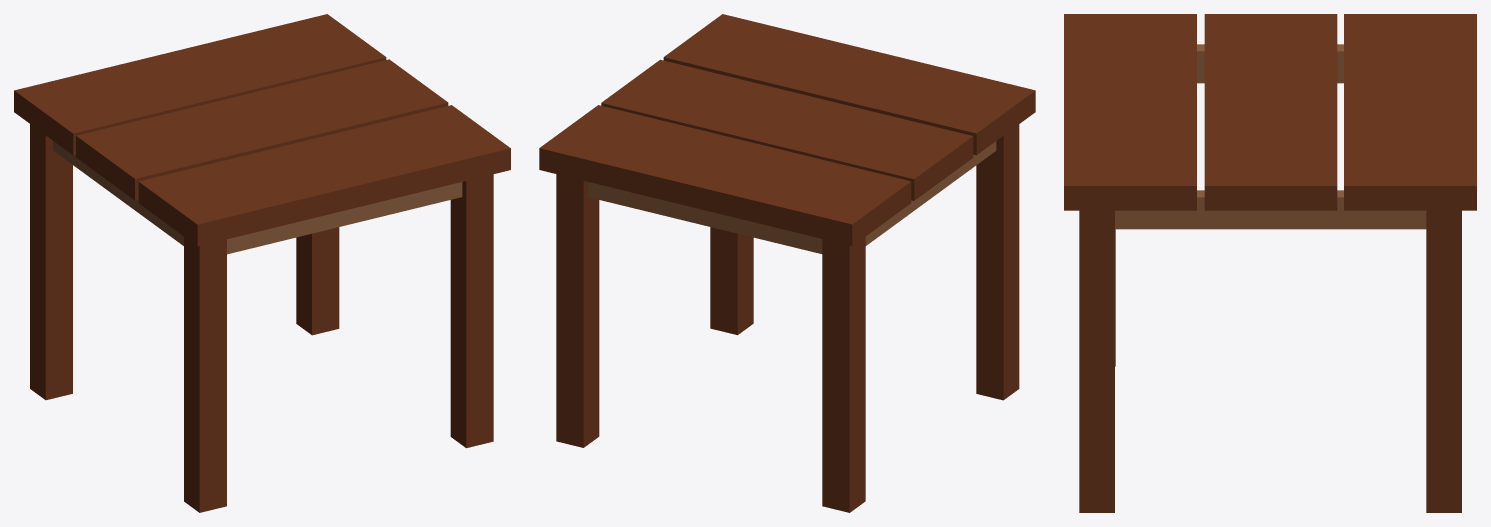
File: TableBasse.FBX
3 renders of one model, left to right at view 1: azimuth 30°, elevation 25°; view 2: azimuth 150°, elevation 25°; view 3: azimuth 270°, elevation 25°, orthographic. The views are drawn at different scales.
Parts seen in each view (by area): view 1: Box011, Box009, Box010, Box001, Box004, Box003, Box002, Box008, Box006; view 2: Box010, Box011, Box009, Box003, Box002, Box004, Box001, Box007, Box006; view 3: Box009, Box010, Box011, Box001, Box002, Box005, Box006.
Boxes of the visible parts, bbox=[...] form: Box011: bbox=[138, 105, 510, 246]; Box009: bbox=[76, 59, 448, 200]; Box010: bbox=[14, 14, 386, 155]; Box001: bbox=[450, 174, 493, 448]; Box004: bbox=[184, 237, 226, 512]; Box003: bbox=[30, 124, 72, 400]; Box002: bbox=[296, 227, 339, 335]; Box008: bbox=[227, 182, 462, 254]; Box006: bbox=[53, 141, 183, 245]; Box010: bbox=[539, 105, 911, 246]; Box011: bbox=[663, 14, 1035, 155]; Box009: bbox=[601, 59, 973, 200]; Box003: bbox=[822, 237, 865, 512]; Box002: bbox=[556, 174, 599, 447]; Box004: bbox=[976, 124, 1019, 400]; Box001: bbox=[710, 227, 753, 335]; Box007: bbox=[587, 182, 822, 253]; Box006: bbox=[865, 141, 996, 245]; Box009: bbox=[1204, 14, 1337, 210]; Box010: bbox=[1344, 14, 1476, 210]; Box011: bbox=[1064, 14, 1196, 210]; Box001: bbox=[1079, 210, 1114, 512]; Box002: bbox=[1426, 210, 1461, 512]; Box005: bbox=[1115, 190, 1426, 229]; Box006: bbox=[1197, 44, 1343, 83].
Bounding box in the file's own units: 23.56 × 21.25 × 23.89.
